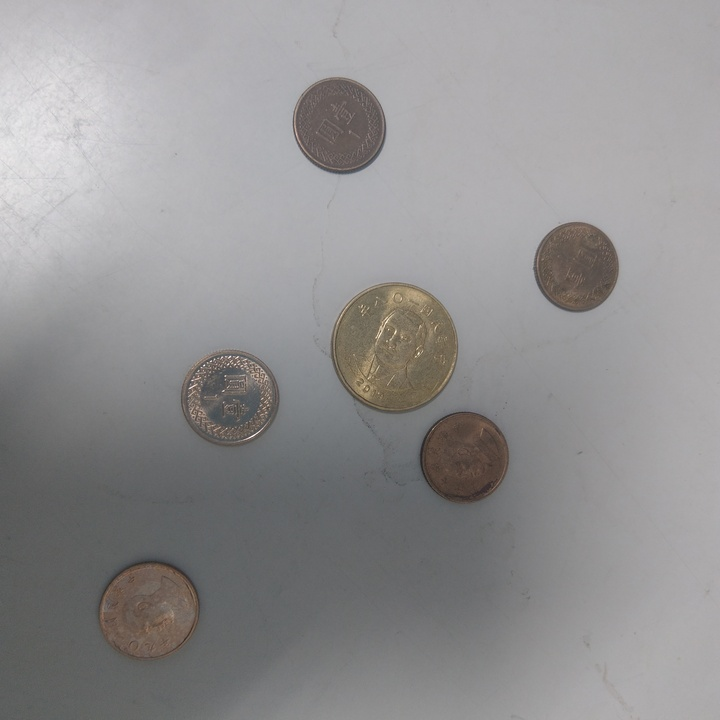1 dollar: (97, 561, 204, 664), (181, 349, 280, 449), (294, 75, 389, 177), (418, 410, 512, 507), (530, 220, 620, 316)
50 dollar: (331, 280, 459, 416)
